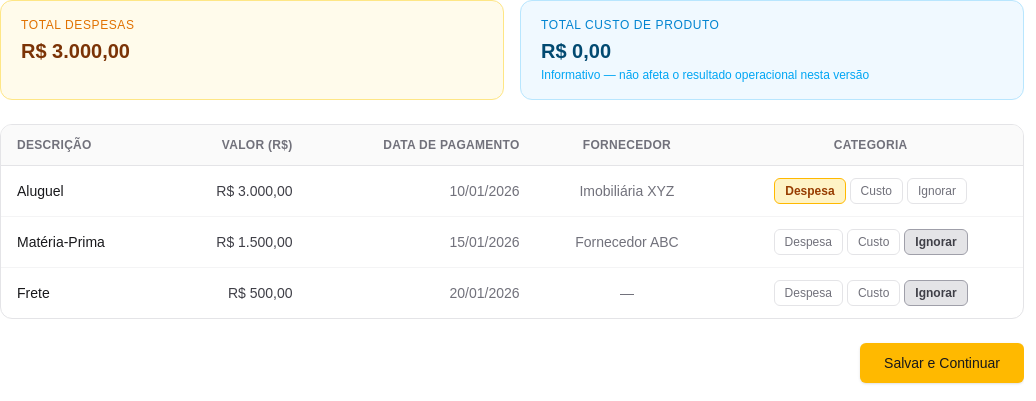
Scenario: PaidAccountsList › real-time totals (AC: 4) › moves value between totals when category changes
Expected: the text named "Total despesas:" shows "3.000", [21, 40, 130, 62]
Change to Custo de Produto
Click the radio button with aria-label "Custo de Produto" at (876, 191), box [850, 178, 903, 204]
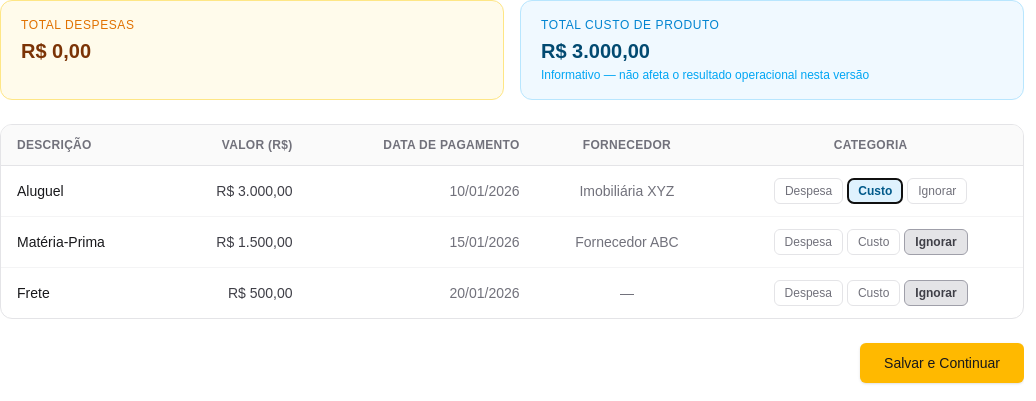
Expected: the text named "Total despesas:" reads "R$ 0,00", [21, 40, 91, 62]
Expected: the text named "Total custo de produto:" shows "3.000", [541, 40, 650, 62]
